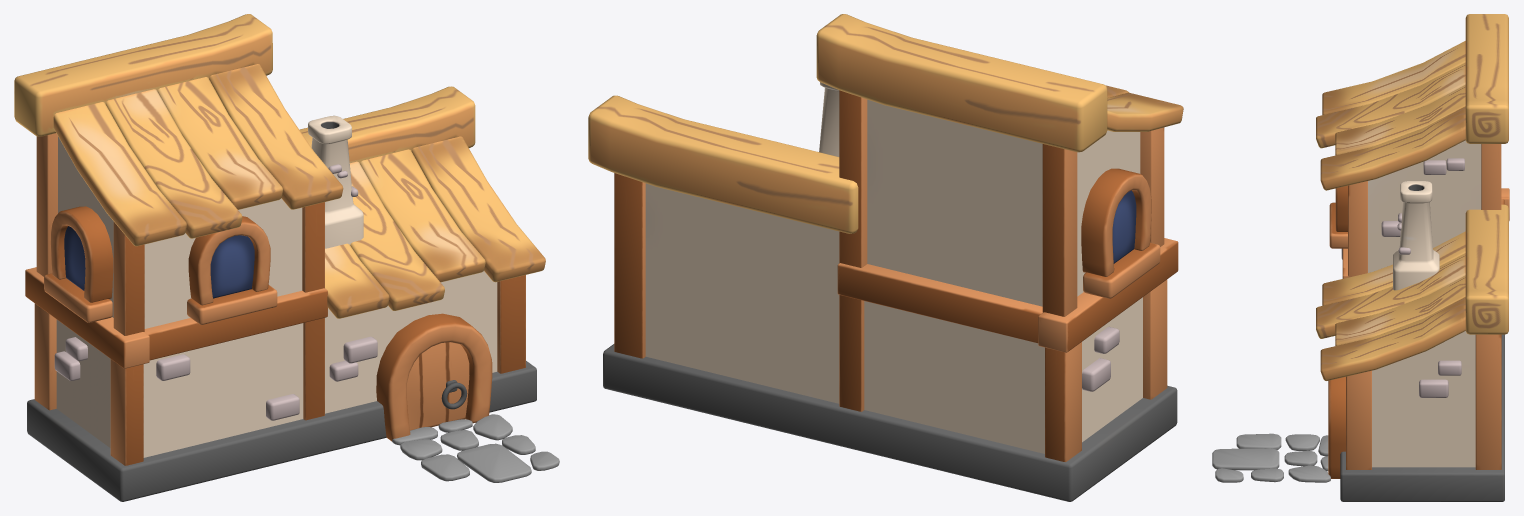
The model's file is house3.fbx.
3 views of the same model, side by side, from view 1: azimuth 30°, elevation 25°; view 2: azimuth 150°, elevation 25°; view 3: azimuth 270°, elevation 25° (orthographic). The views are drawn at different scales.
Visible parts, largest first — view 1: house3; view 2: house3; view 3: house3.
Boxes of the visible parts, x1,y1,x2,y2 form: house3: (14,14,559,501); house3: (588,14,1183,501); house3: (1212,14,1509,501).
Size of the model in its own units: 886 by 705 by 600.
3 materials, 1 textured.
